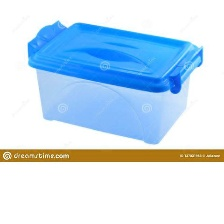plastic_box: (17, 12, 208, 149)
